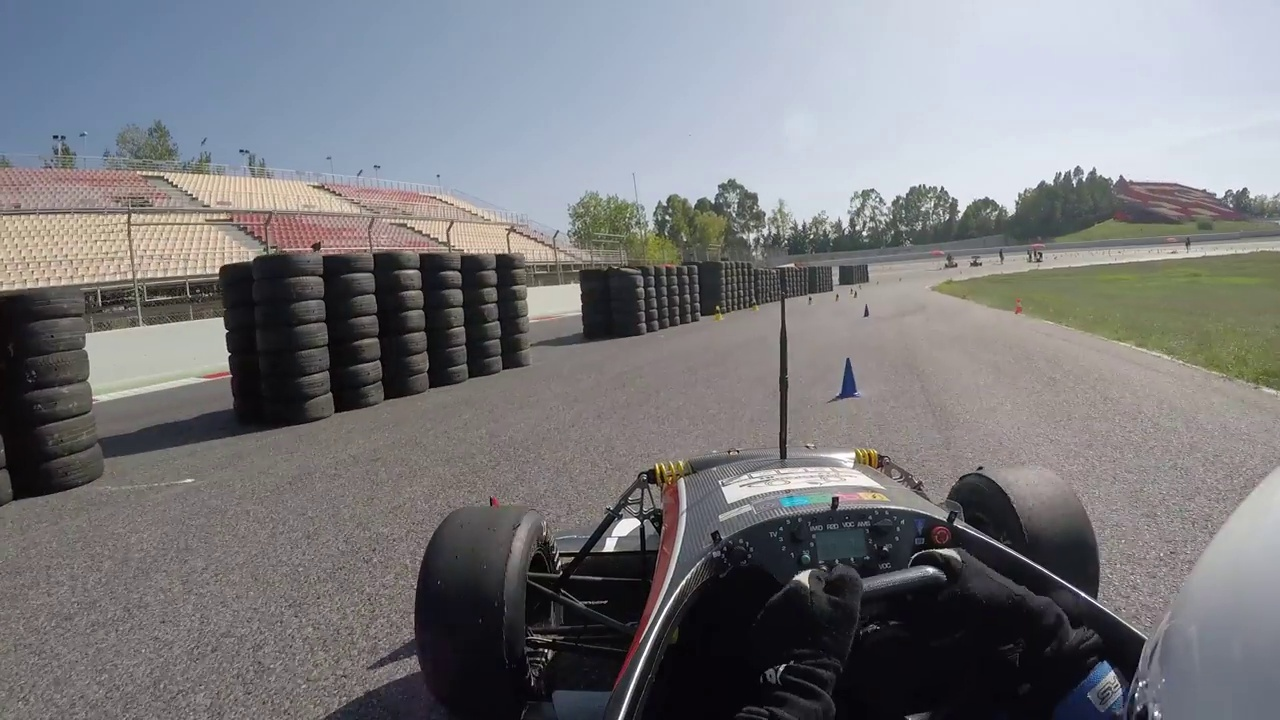Cone: (839, 357, 861, 399)
